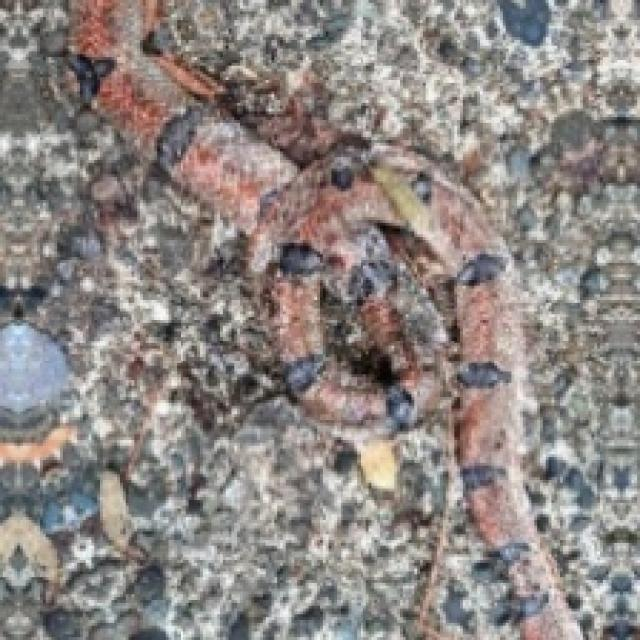northern short-headed snake: (75, 0, 580, 640)
